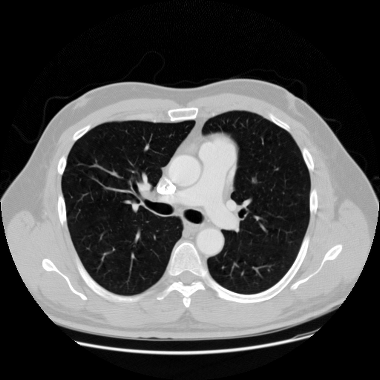nodule: (251, 177, 257, 183)
